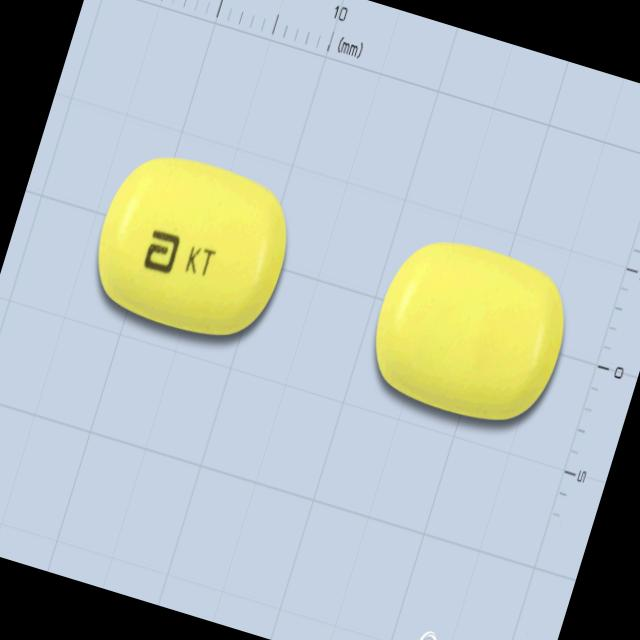Klaricid Film Coated - 500mg: (80, 138, 306, 352)
